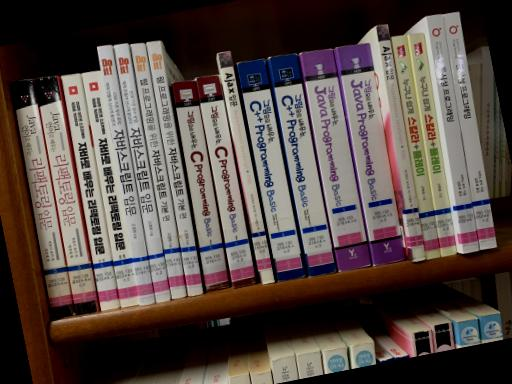book-spine: (301, 49, 370, 271), (33, 77, 97, 315), (269, 53, 337, 277), (337, 43, 405, 266), (11, 79, 74, 319), (97, 45, 155, 305), (238, 59, 305, 281), (113, 43, 170, 302), (130, 43, 186, 299), (147, 40, 203, 296), (61, 73, 118, 310), (217, 51, 274, 285), (82, 71, 138, 307), (195, 75, 256, 288), (443, 11, 497, 250), (426, 14, 479, 254), (172, 81, 229, 292), (376, 24, 425, 262), (391, 35, 440, 259), (409, 32, 455, 257)
